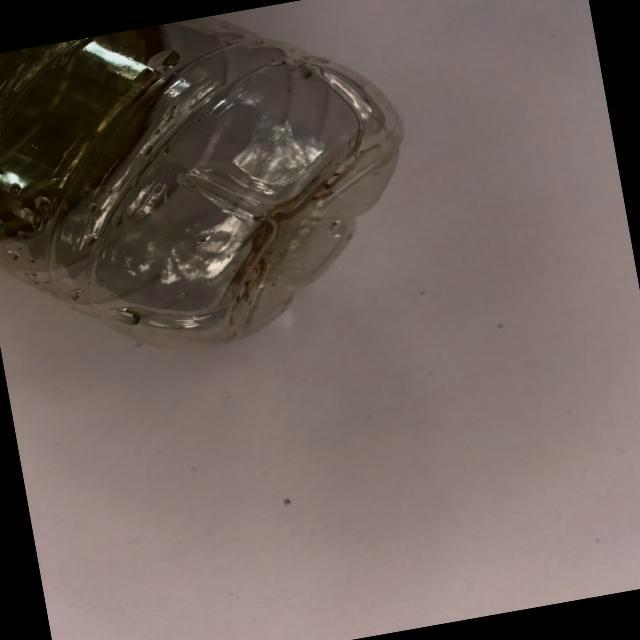plastic: (0, 0, 457, 405)
